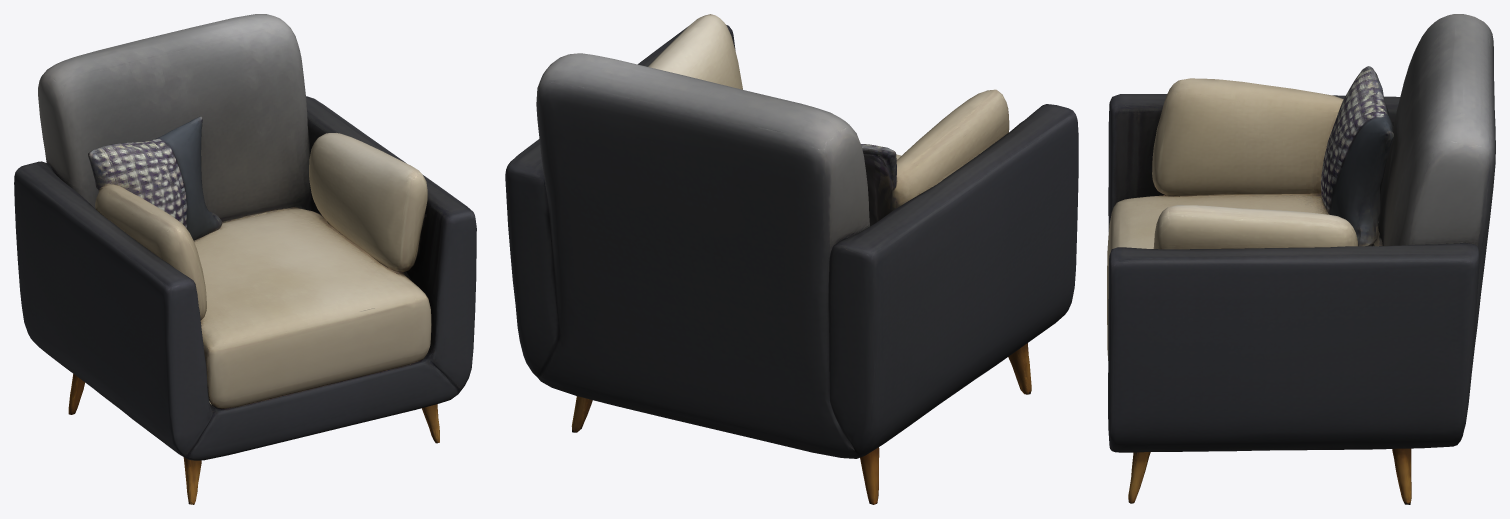
File: bergere.glb
The picture shows the model from 3 angles, left to right: view 1: azimuth 30°, elevation 25°; view 2: azimuth 150°, elevation 25°; view 3: azimuth 270°, elevation 25°; orthographic projection. The views are drawn at different scales.
Visible parts, largest first — view 1: world_0; view 2: world_0; view 3: world_0.
Part boxes in pixels (x1=…): world_0: x1=14, y1=14, x2=476, y2=504; world_0: x1=505, y1=14, x2=1078, y2=504; world_0: x1=1107, y1=14, x2=1495, y2=504.
Bounding box in the file's own units: 0.49 × 0.4972 × 0.4727.
1 material, 1 textured.
